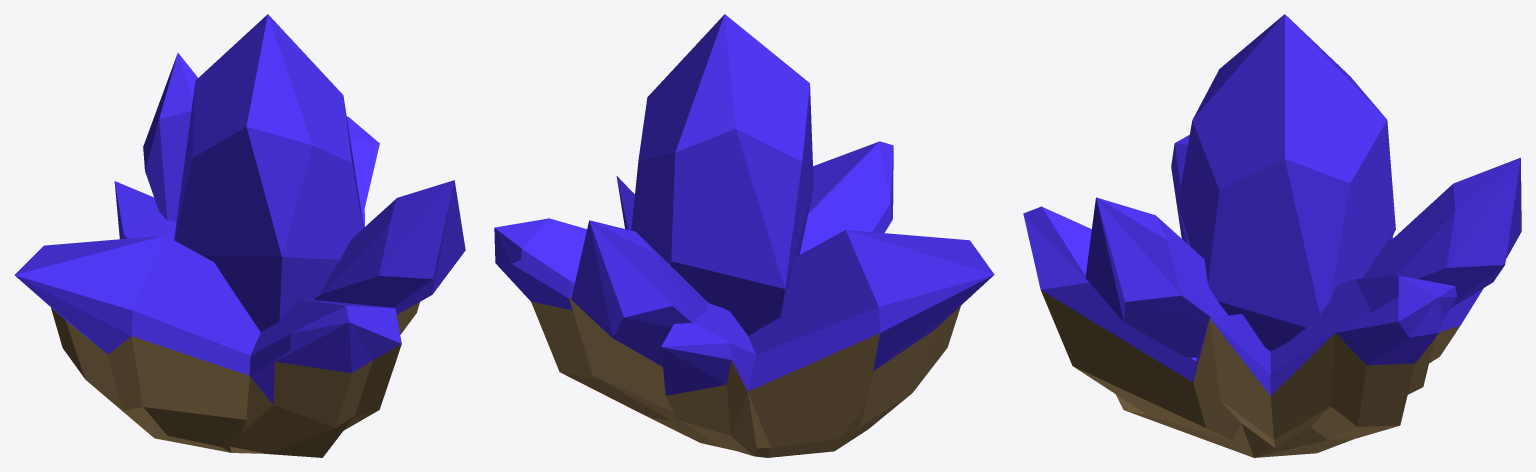
File: cristal (1).fbx
The picture shows the model from 3 angles, left to right: view 1: azimuth 30°, elevation 25°; view 2: azimuth 150°, elevation 25°; view 3: azimuth 270°, elevation 25°; orthographic projection. The views are drawn at different scales.
Visible parts, largest first — view 1: Cylinder098; view 2: Cylinder098; view 3: Cylinder098.
Boxes of the visible parts, box(x1,y1,x2,y2) form: Cylinder098: box(14, 14, 465, 457); Cylinder098: box(494, 14, 994, 457); Cylinder098: box(1023, 14, 1521, 457).
Size of the model in its own units: 17.9 by 17 by 17.16.
